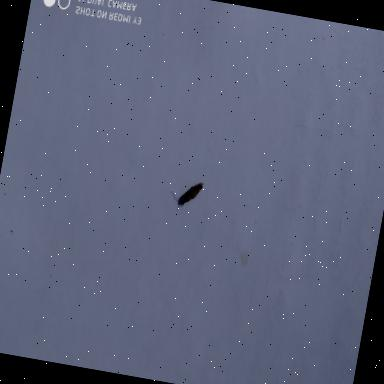pbw: (167, 175, 205, 213)
